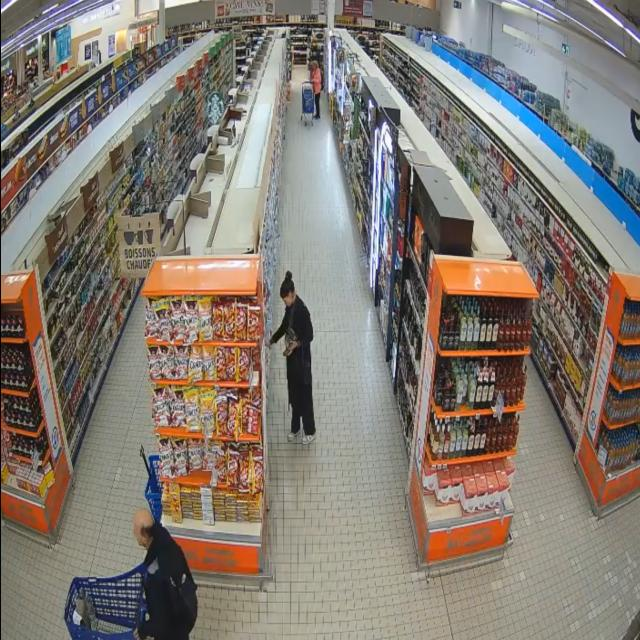article: (287, 326, 298, 341), (285, 334, 292, 349), (283, 349, 290, 356)
bags: (171, 574, 197, 632), (294, 345, 311, 385)
hands: (288, 341, 299, 356), (264, 341, 272, 351), (133, 629, 140, 640)
person: (134, 510, 197, 639), (271, 272, 315, 444), (311, 61, 321, 119)
